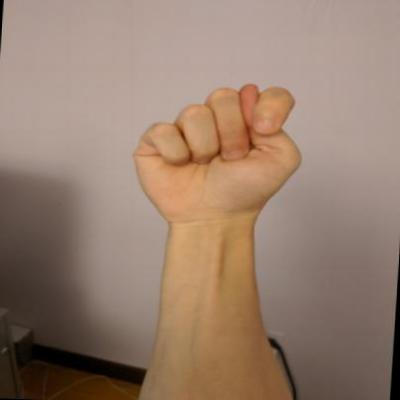hand: (125, 77, 312, 234)
